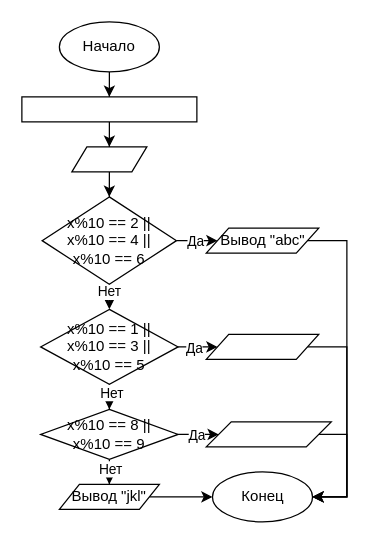
The diagram is 379 pixels wide and 544 high, and some of its shapes have lost their labels. Here are the shapes that lost their labels. From the top down, the box of each, then its label:
(21, 96, 197, 122): Натуральное число x
(71, 146, 147, 172): Ввод x
(205, 333, 319, 359): Вывод "def"
(205, 421, 331, 447): Вывод "ghi!"
